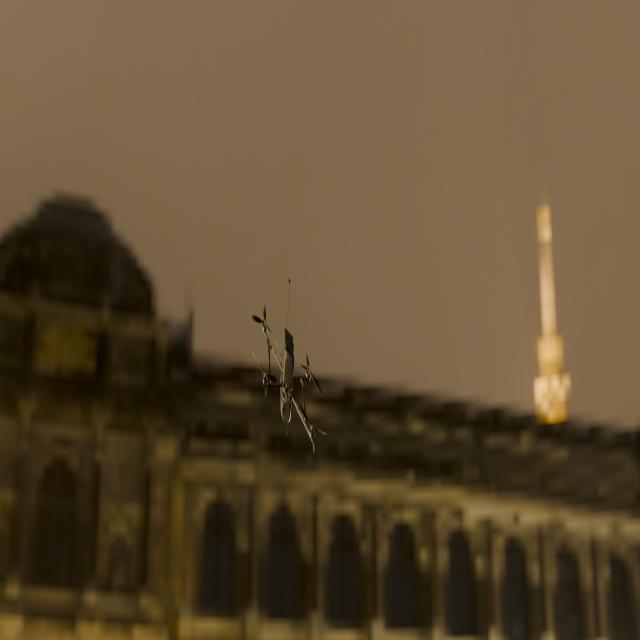drone: (252, 279, 327, 452)
